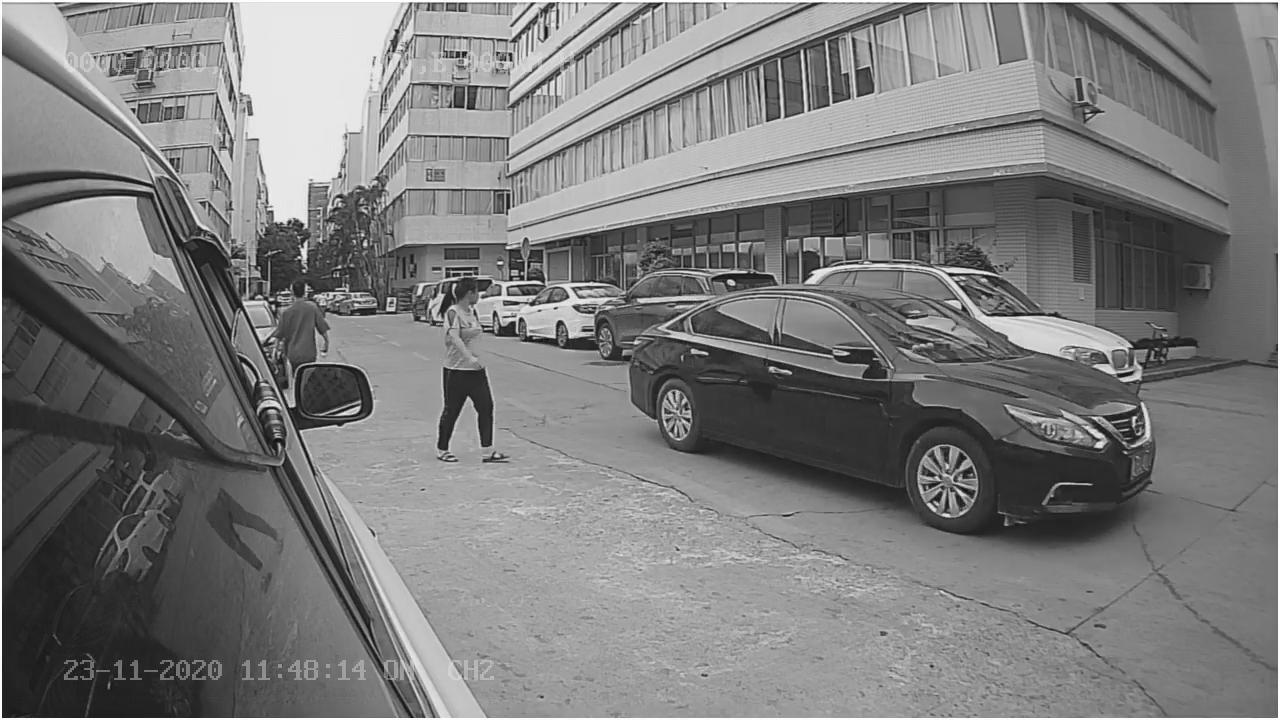person: (433, 273, 509, 469)
